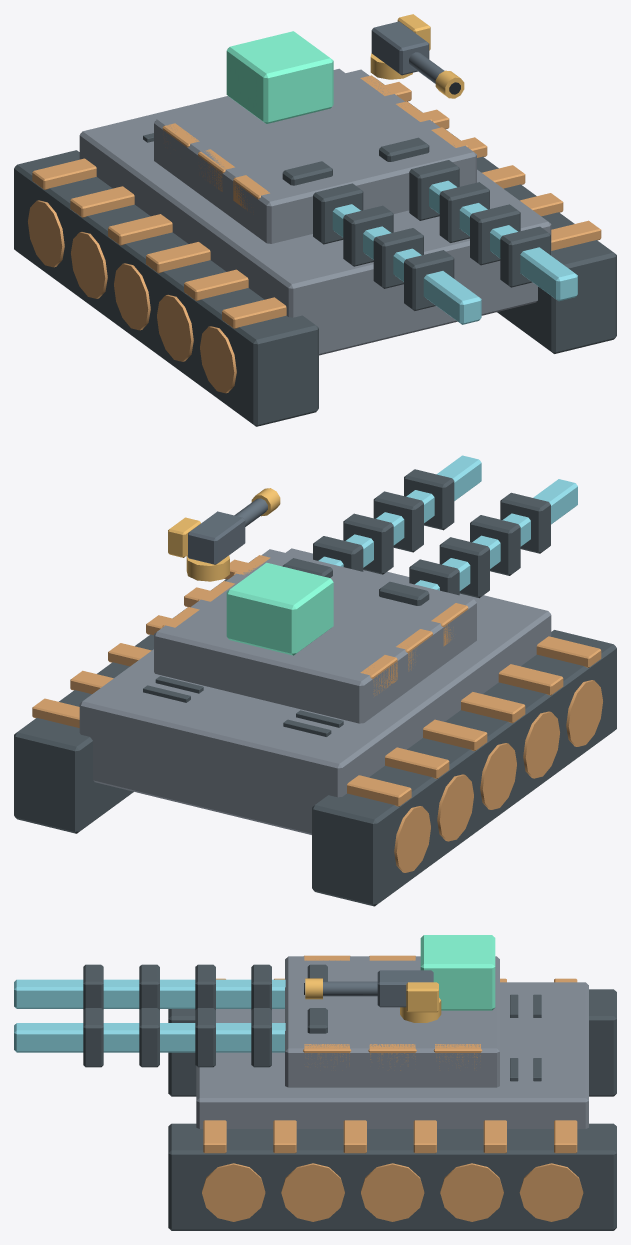
The model's file is boss-rail.glb.
3 renders of one model, top to bottom at view 1: azimuth 30°, elevation 25°; view 2: azimuth 150°, elevation 25°; view 3: azimuth 270°, elevation 25°, orthographic. The views are drawn at different scales.
Parts seen in each view (by area): view 1: Track, Chassis, TurretArmor, Tread, Coil, Core, Rail, Auxiliary receiver, Detail reactive plate, Auxiliary swivel; view 2: Chassis, Track, TurretArmor, Tread, Coil, Core, Rail, Auxiliary receiver, Detail reactive plate, Auxiliary swivel; view 3: Track, Chassis, Tread, TurretArmor, Rail, Coil, Core, Auxiliary receiver, Detail reactive plate, Auxiliary swivel.
Boxes of the visible parts, x1,y1,x2,y2 form: Track: [14, 79, 616, 426]; Chassis: [79, 68, 551, 355]; TurretArmor: [154, 69, 476, 243]; Tread: [28, 82, 601, 393]; Coil: [282, 137, 550, 310]; Core: [226, 31, 333, 123]; Rail: [332, 180, 577, 324]; Auxiliary receiver: [371, 21, 444, 83]; Detail reactive plate: [162, 75, 468, 214]; Auxiliary swivel: [370, 14, 464, 98]; Chassis: [79, 548, 551, 834]; Track: [14, 557, 616, 906]; TurretArmor: [154, 549, 476, 723]; Tread: [32, 559, 602, 872]; Coil: [282, 469, 550, 605]; Core: [226, 562, 333, 655]; Rail: [318, 455, 577, 590]; Auxiliary receiver: [187, 498, 267, 564]; Detail reactive plate: [162, 555, 468, 696]; Auxiliary swivel: [168, 488, 280, 581]; Track: [168, 989, 616, 1230]; Chassis: [196, 982, 588, 1128]; Tread: [202, 978, 583, 1221]; TurretArmor: [285, 956, 499, 1087]; Rail: [14, 979, 285, 1052]; Coil: [83, 964, 327, 1067]; Core: [420, 935, 495, 1010]; Auxiliary receiver: [323, 970, 433, 1007]; Detail reactive plate: [303, 955, 482, 1070]; Auxiliary swivel: [305, 978, 441, 1022].
Size of the model in its own units: 4.21 by 2.55 by 6.45.
